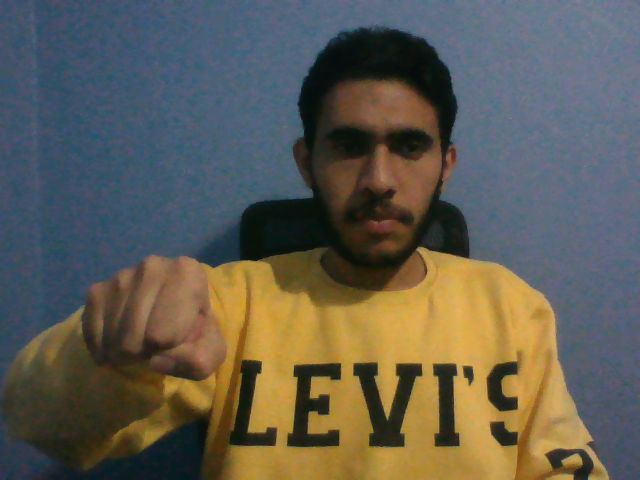yes: (79, 250, 229, 385)
